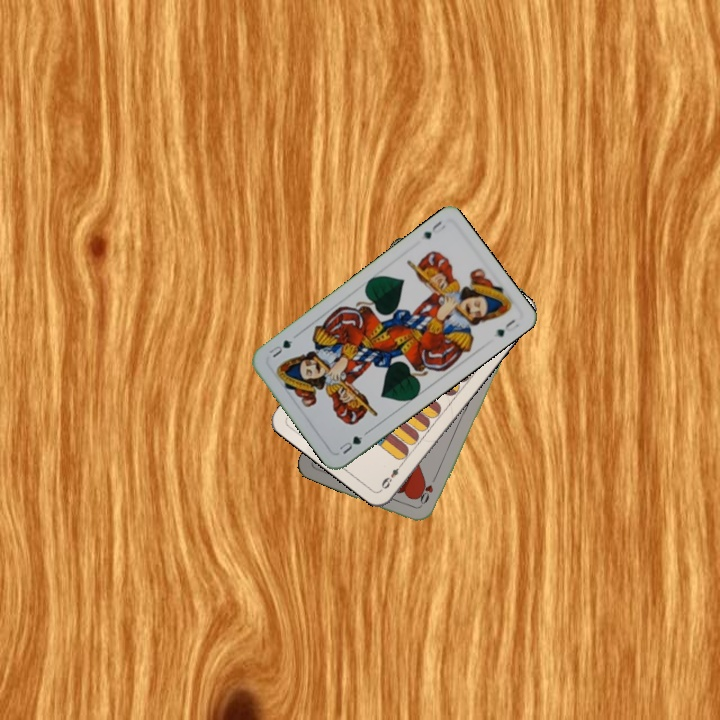E9: (377, 458, 406, 493)
GU: (334, 432, 365, 457), (419, 217, 447, 242)
HO: (415, 471, 439, 509)
